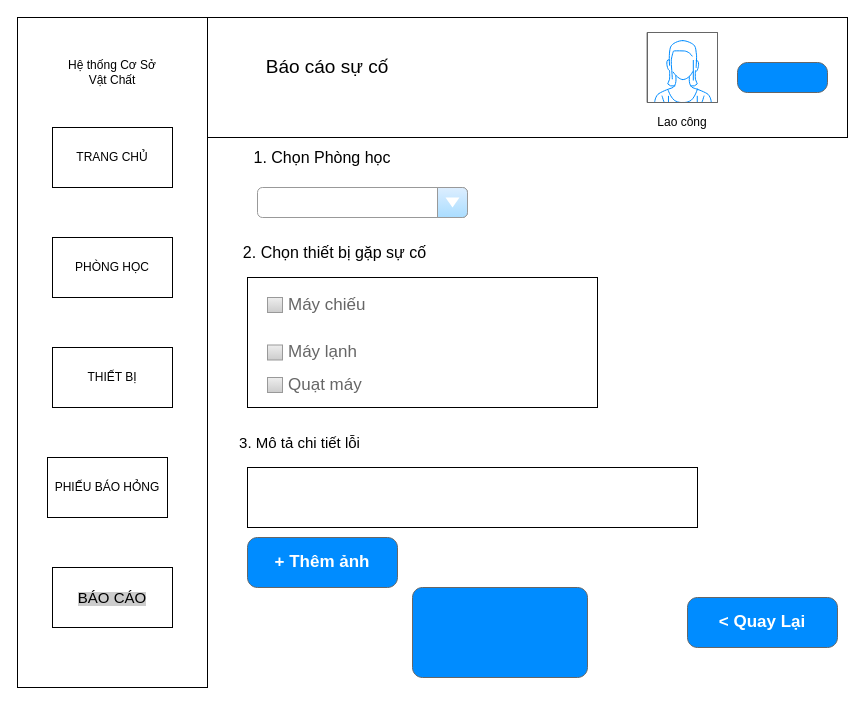
Image size: 865x705. Some labels were removed from this diagram. Each missing label, with the centre of its shape:
"Gửi báo cáo" belongs at point (500, 632).
"P101" belongs at point (362, 202).
"Đăng xuất" belongs at point (782, 77).
